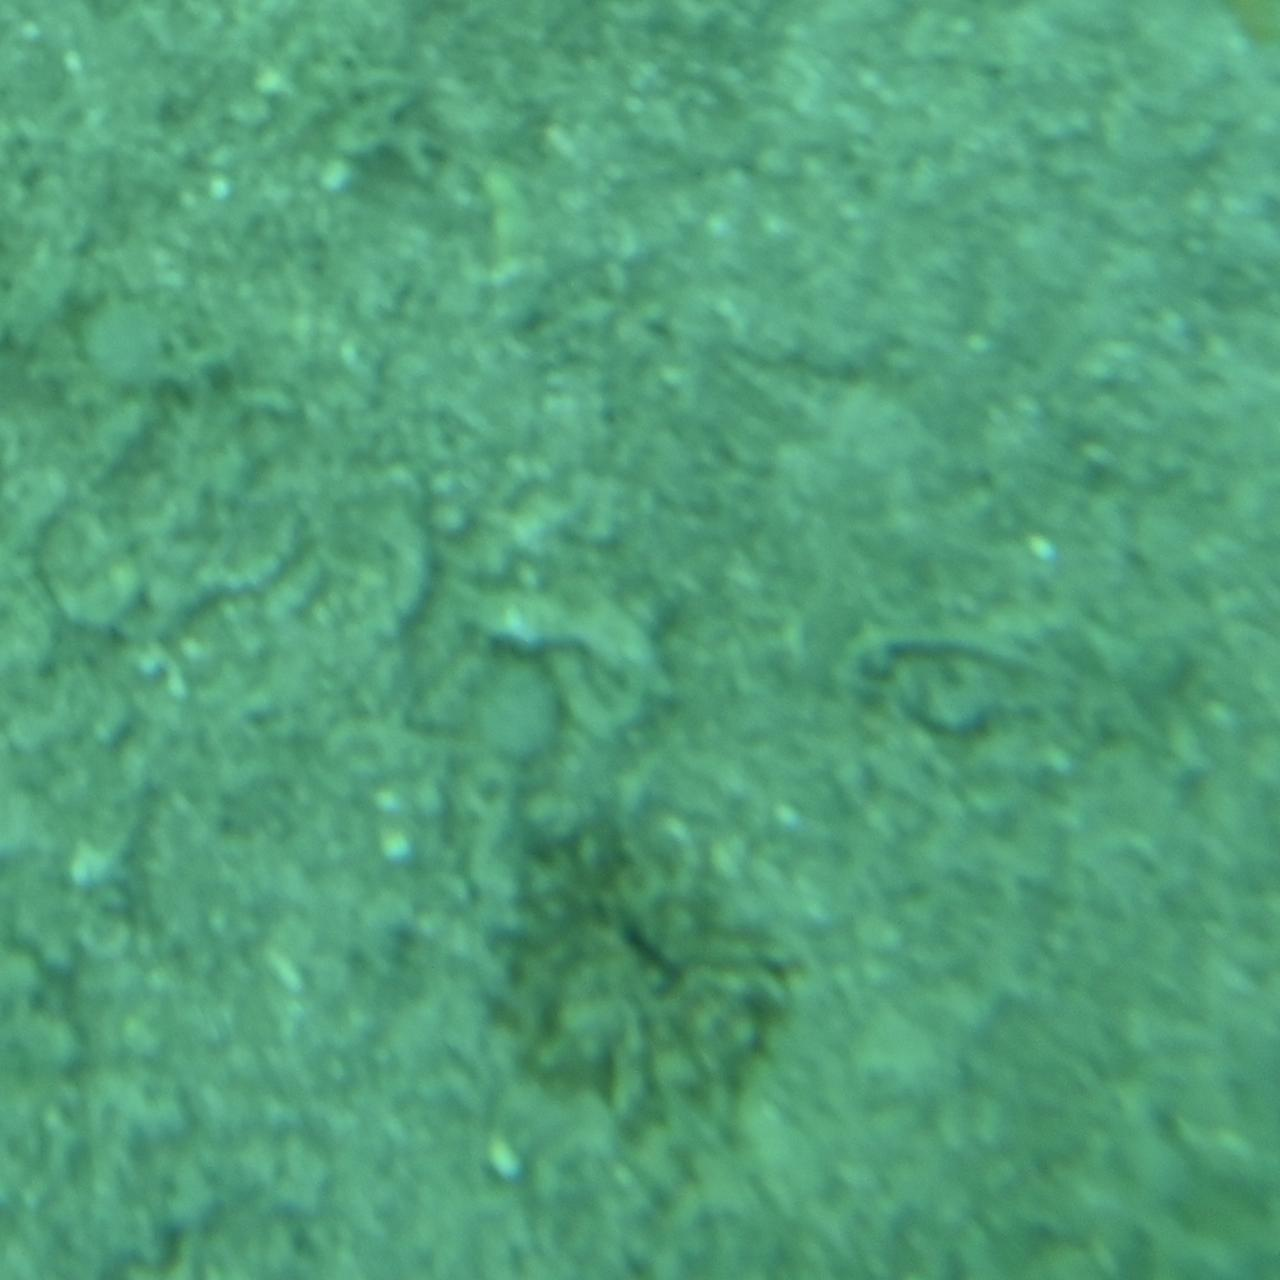Condylactis aurantiaca: (470, 795, 810, 1156)
